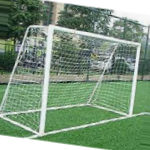goals: (2, 24, 142, 135)
